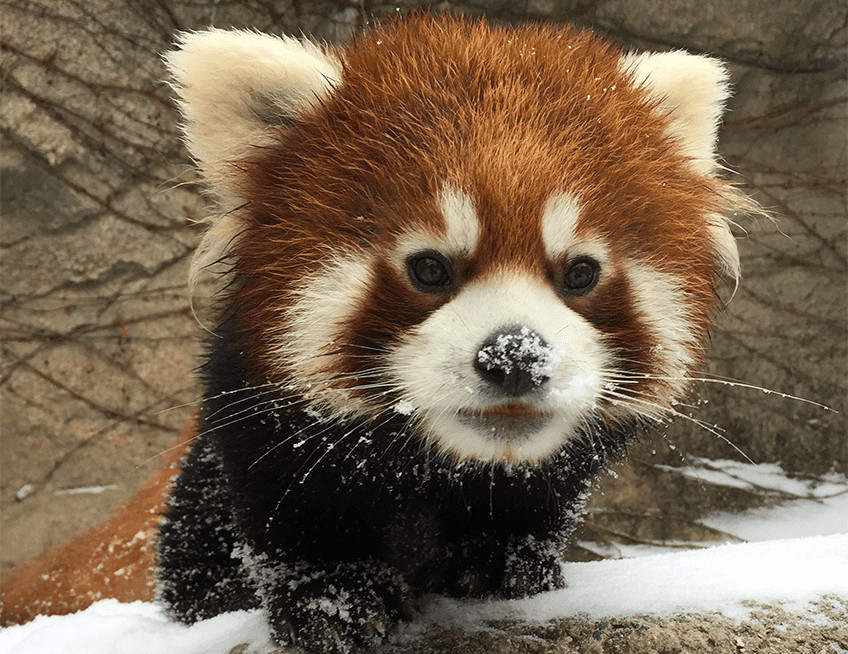Red panda: (158, 12, 752, 470)
